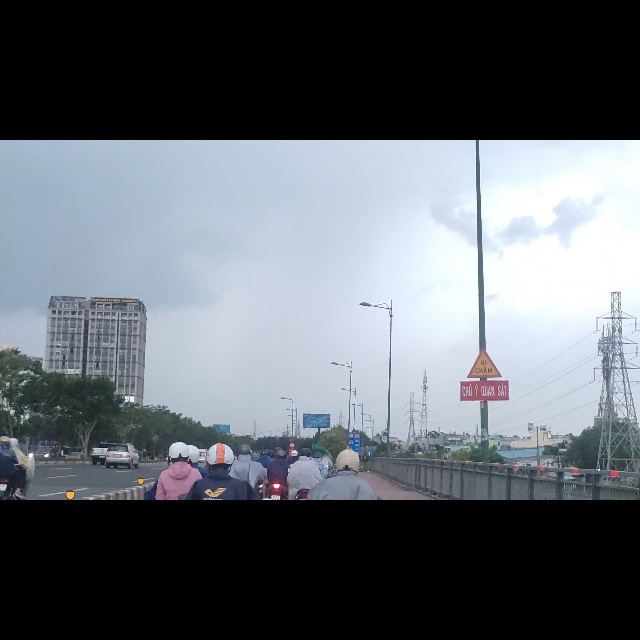bien_nguy_hiem: (466, 369, 503, 424)
